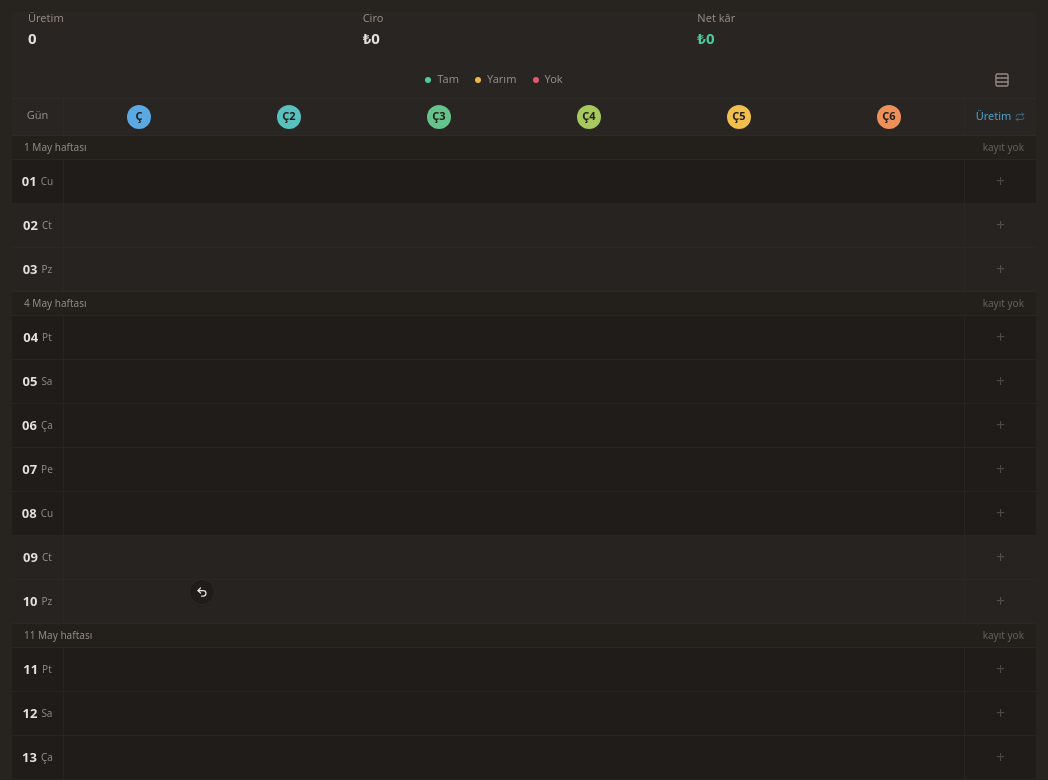
CalendarView › sağ sütun ölçüsü değiştirilebilir
Click the button with aria-label "Sağ sütun: Üretim" at (1000, 116), box [964,98,1036,134]
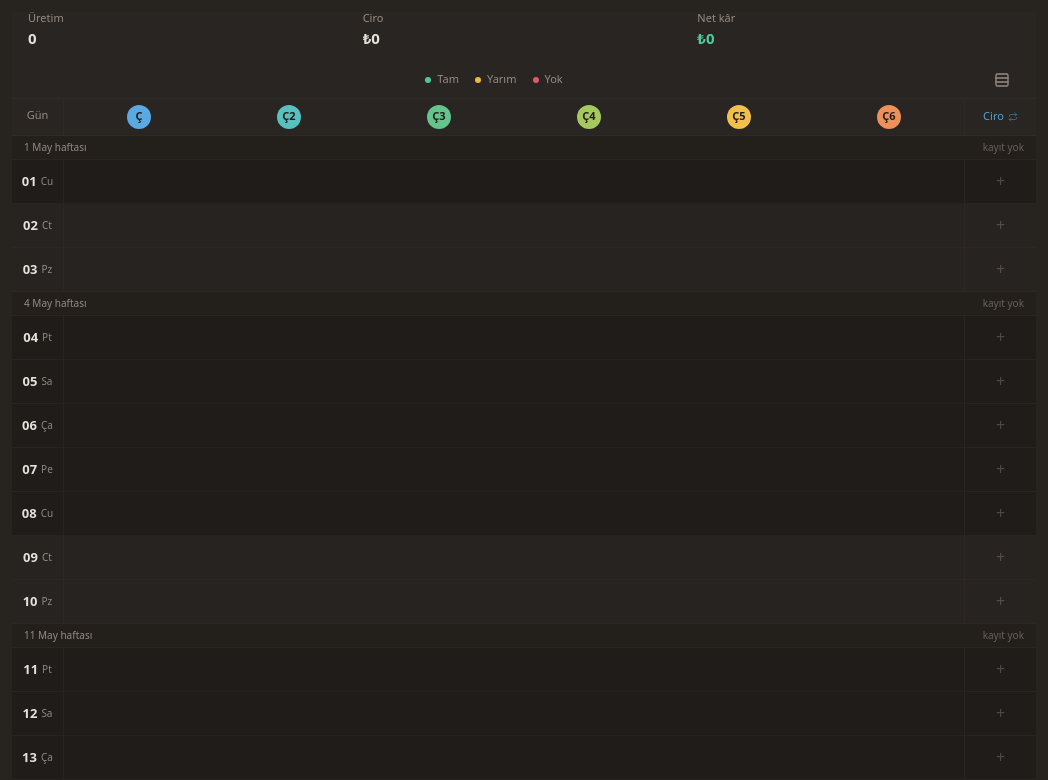
Expected: the button with aria-label "Sağ sütun: Ciro" is shown, [964,98,1036,134]
